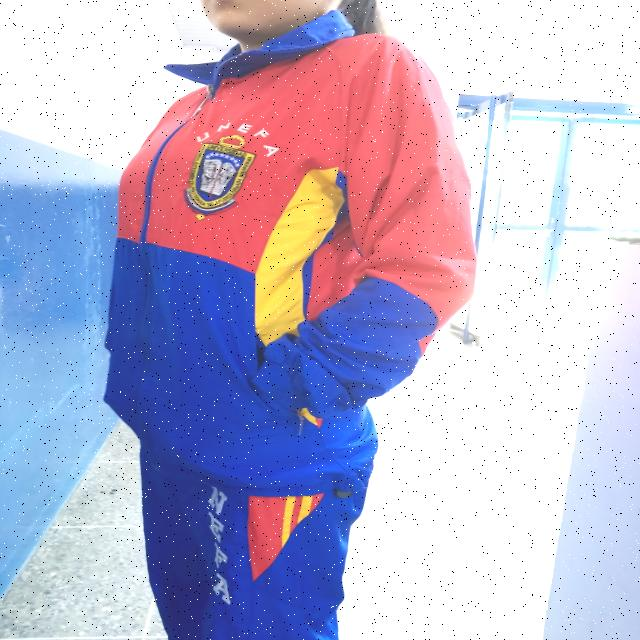chaqueta_unefa: (102, 10, 475, 497)
uniforme_superior: (140, 451, 372, 640)
